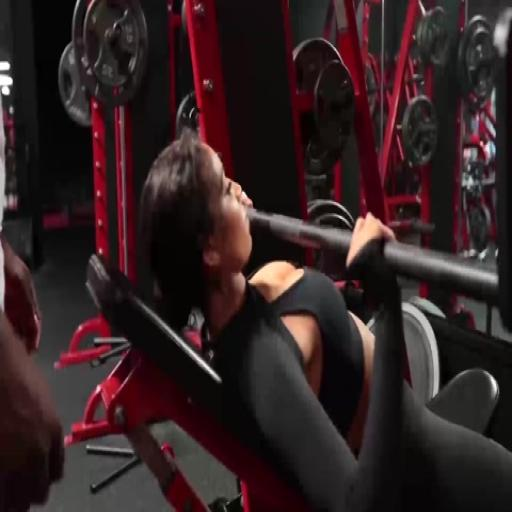exercise: (130, 128, 511, 511)
